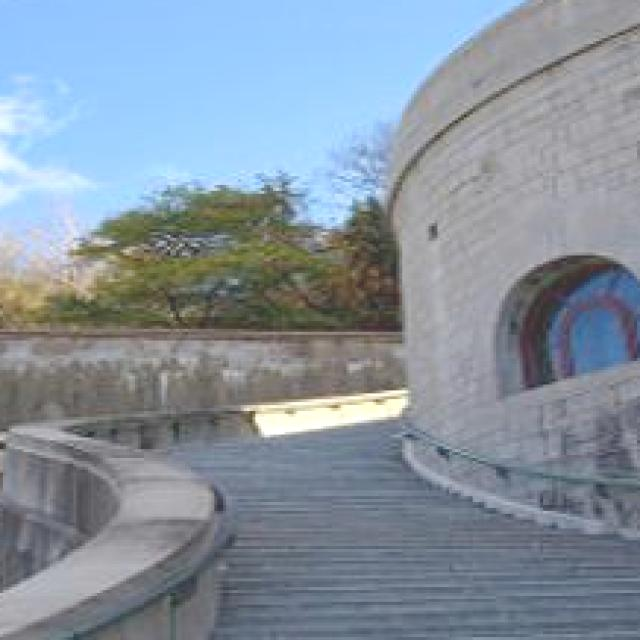upstair: (157, 403, 612, 629)
